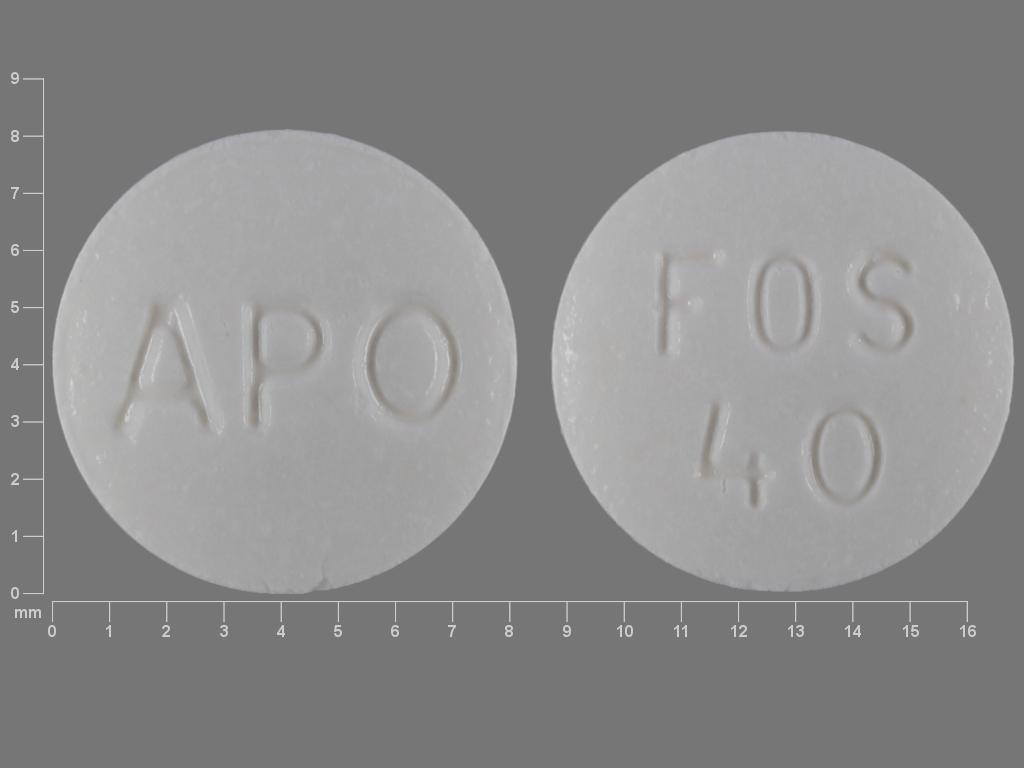Pill: (45, 120, 526, 600), (542, 119, 1024, 598)
